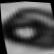correct: (0, 4, 54, 54)
